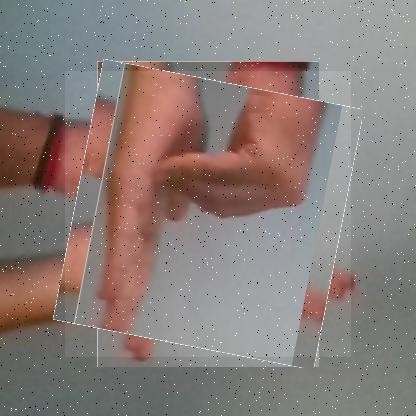Z: (65, 71, 352, 358)
